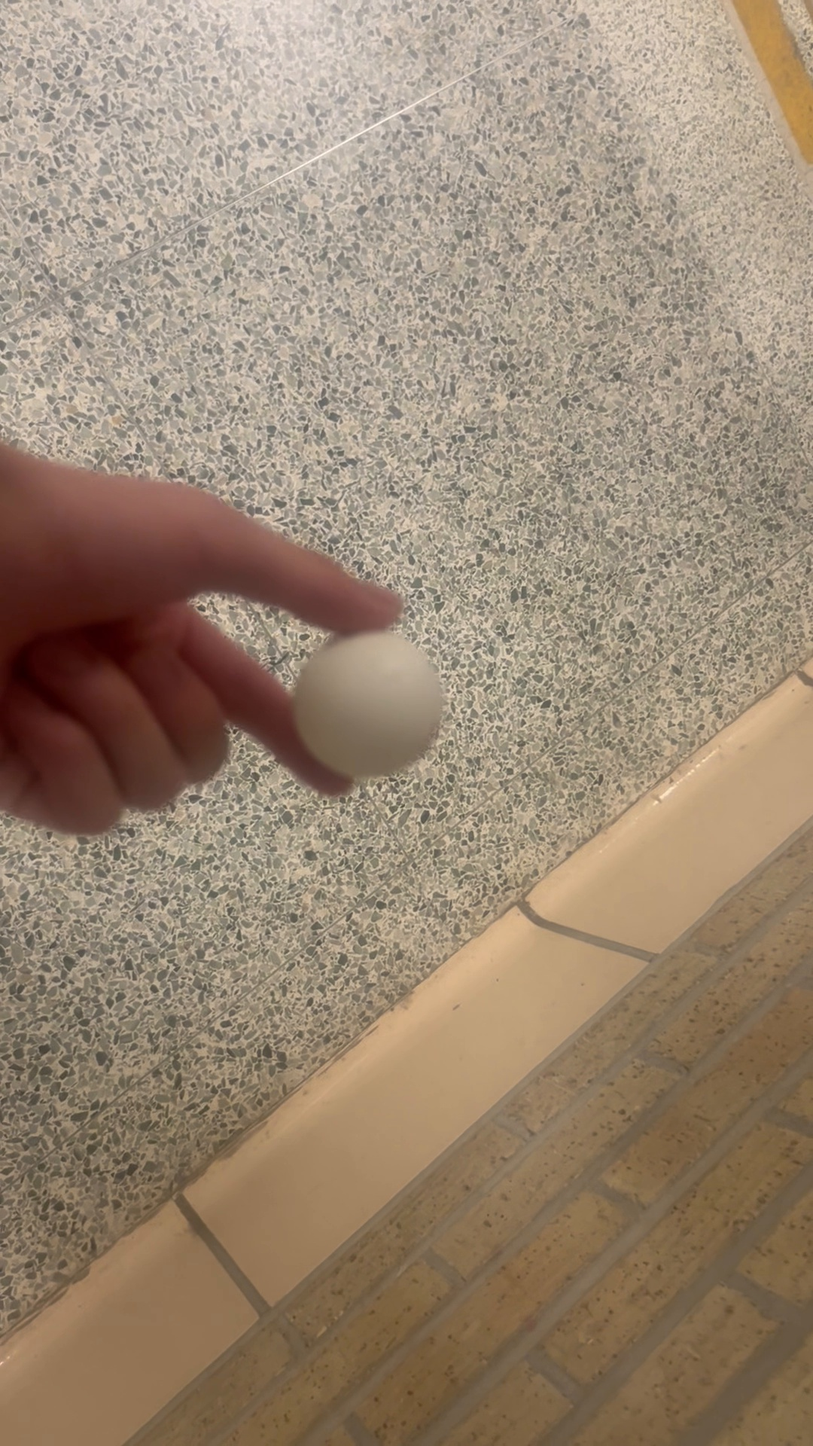Ball: (275, 627, 454, 796)
